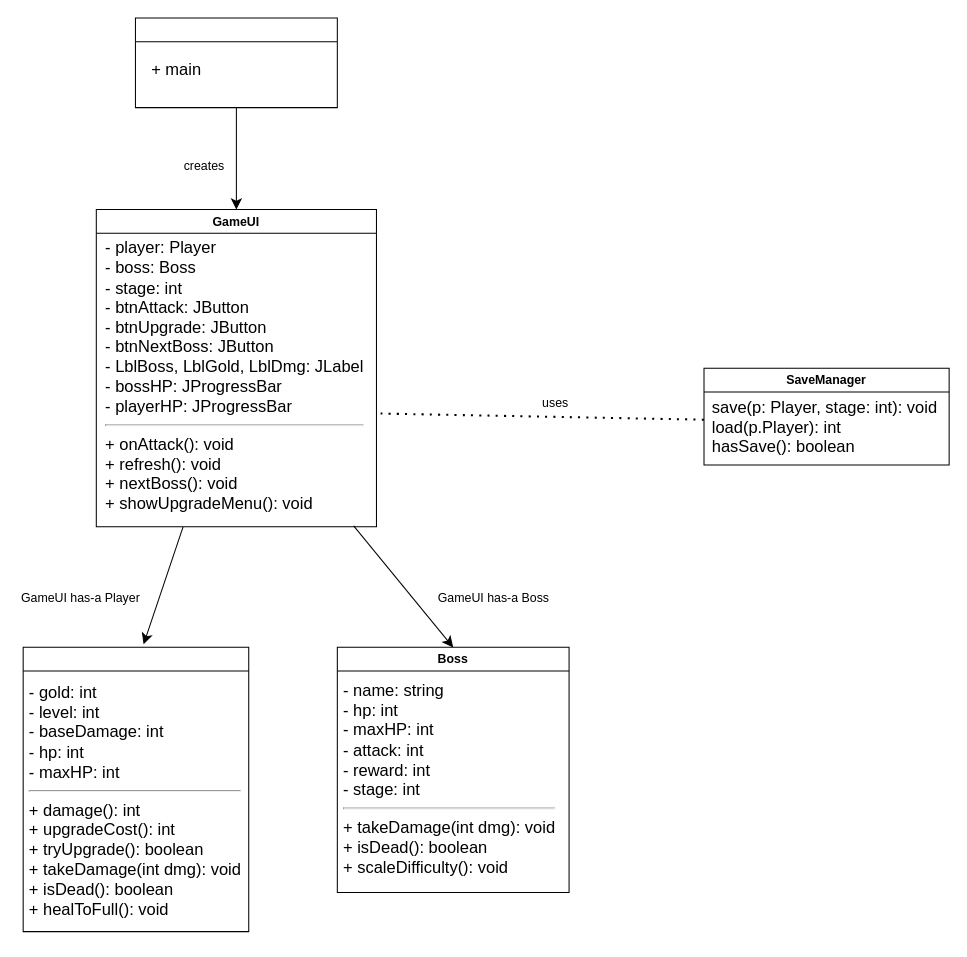
The diagram is 967 pixels wide and 957 high, and some of its shapes have lost their labels. Each missing label, with the box of its shape:
APP: (134, 17, 337, 108)
Player: (22, 646, 249, 932)
